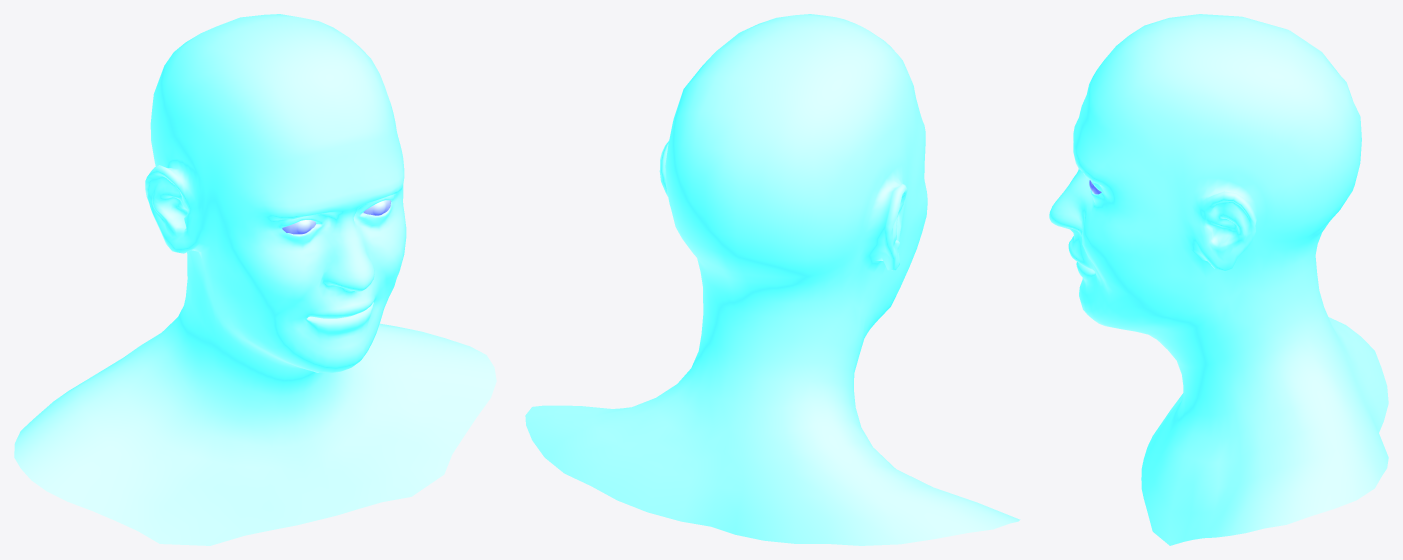
The model's file is assistant.glb.
The picture shows the model from 3 angles, left to right: view 1: azimuth 30°, elevation 25°; view 2: azimuth 150°, elevation 25°; view 3: azimuth 270°, elevation 25°; orthographic projection. The views are drawn at different scales.
Parts seen in each view (by area): view 1: Human.001, Human.high-poly.001; view 2: Human.001; view 3: Human.001.
Boxes of the visible parts, <box> form: Human.001: <box>14,14,496,545</box>; Human.high-poly.001: <box>282,200,391,234</box>; Human.001: <box>525,14,1020,545</box>; Human.001: <box>1049,14,1388,545</box>.
Size of the model in its own units: 0.3469 by 0.3334 by 0.2249.
